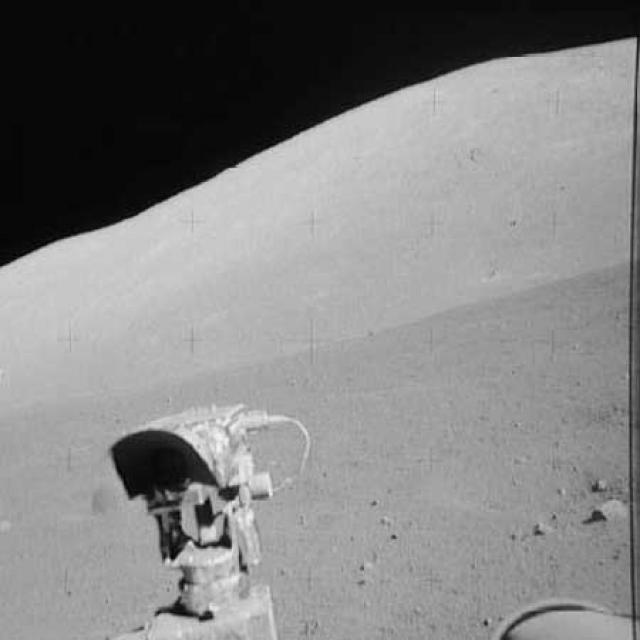artifact: (91, 396, 321, 638)
rock: (586, 492, 627, 533)
